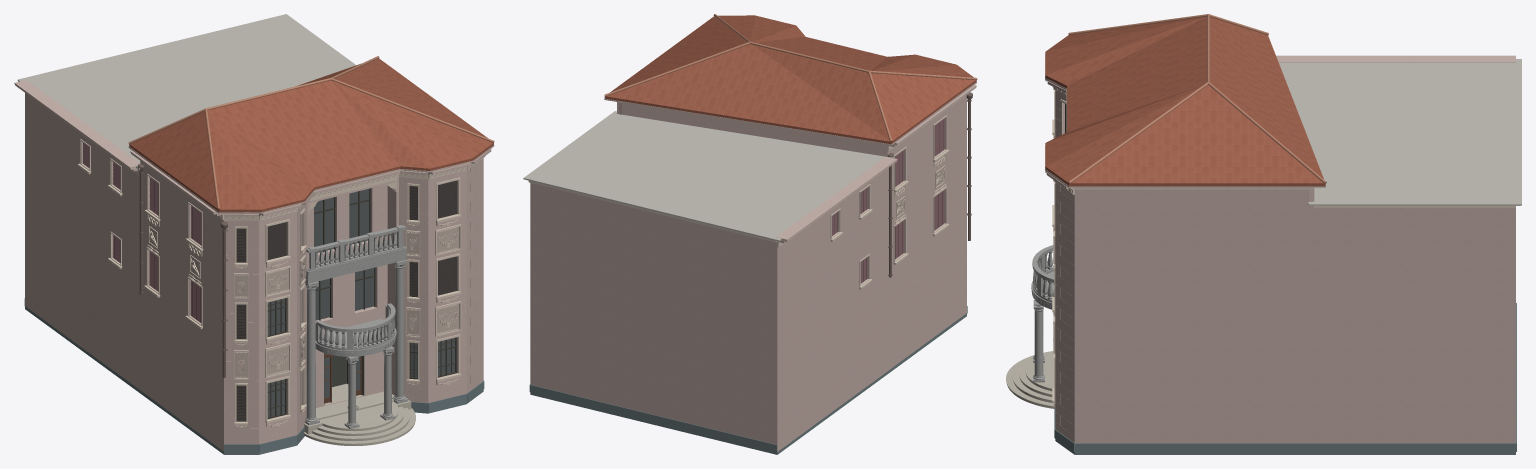
The model's file is full-source.glb.
3 renders of one model, left to right at view 1: azimuth 30°, elevation 25°; view 2: azimuth 150°, elevation 25°; view 3: azimuth 270°, elevation 25°, orthographic. The views are drawn at different scales.
Visible parts, largest first — view 1: 福德坊1号花园住宅; view 2: 福德坊1号花园住宅; view 3: 福德坊1号花园住宅.
Part boxes in pixels (left/top/right/bottom): 福德坊1号花园住宅: left=14, top=14, right=494, bottom=454; 福德坊1号花园住宅: left=523, top=14, right=977, bottom=454; 福德坊1号花园住宅: left=1006, top=14, right=1521, bottom=454.
Size of the model in its own units: 13.85 by 13.86 by 20.04.
Materials: 20 (4 with a texture image).
